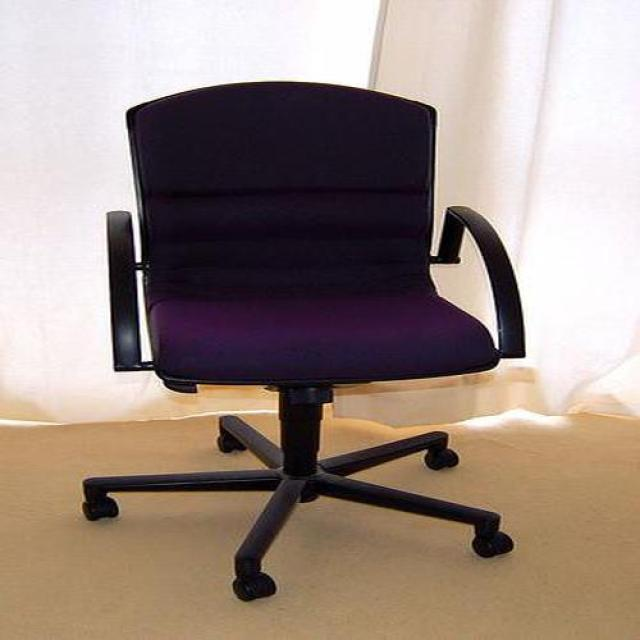swivelchair: (81, 82, 527, 604)
